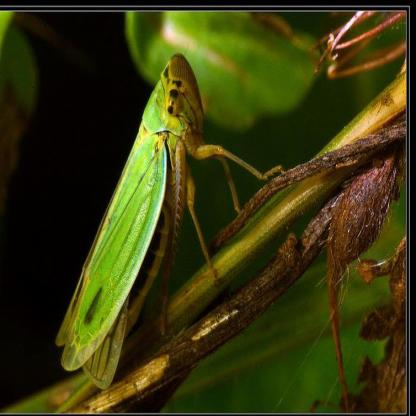Green-Leafhopper: (53, 44, 279, 391)
